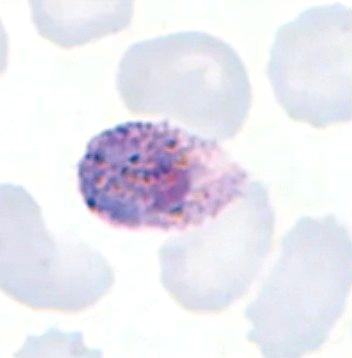Infected: (77, 117, 248, 229)
Uninfected: (156, 175, 275, 310), (243, 212, 352, 358), (116, 31, 252, 143), (0, 182, 116, 312), (267, 3, 352, 129)
